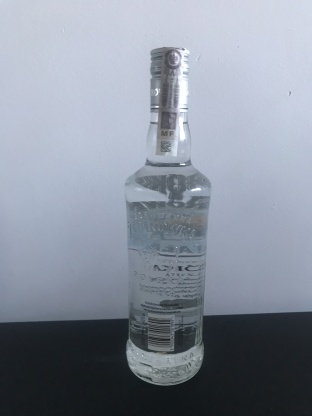nakretka: (147, 43, 191, 116)
